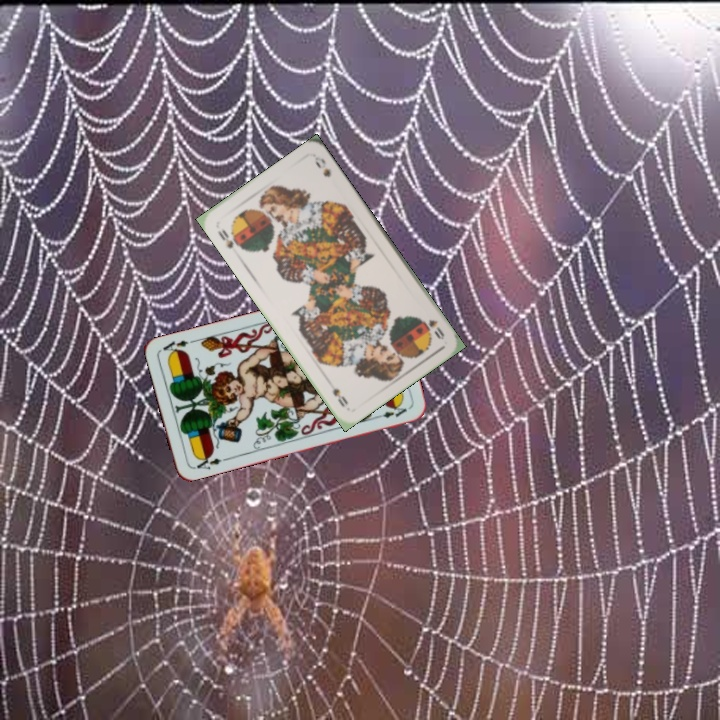EA: (190, 450, 224, 472)
SO: (424, 315, 447, 342), (214, 225, 236, 251)
